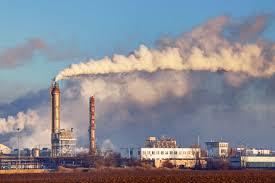smoke: (0, 16, 275, 152)
